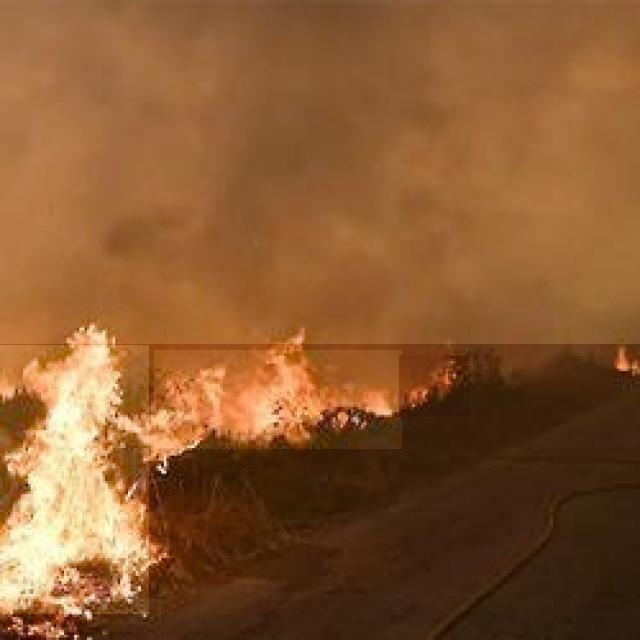Fire: (0, 345, 149, 614), (154, 350, 402, 449), (399, 355, 470, 417), (600, 342, 640, 378)
Smoke: (0, 0, 640, 344)
